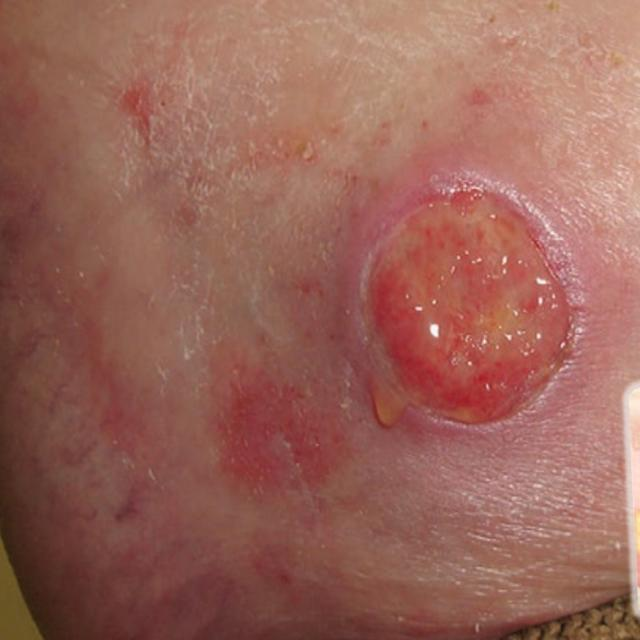stage-3: (368, 189, 570, 422)
